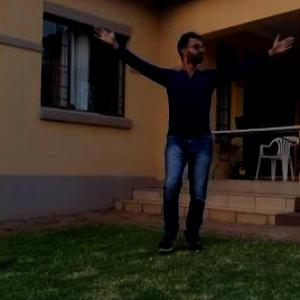takeoff: (83, 15, 289, 240)
